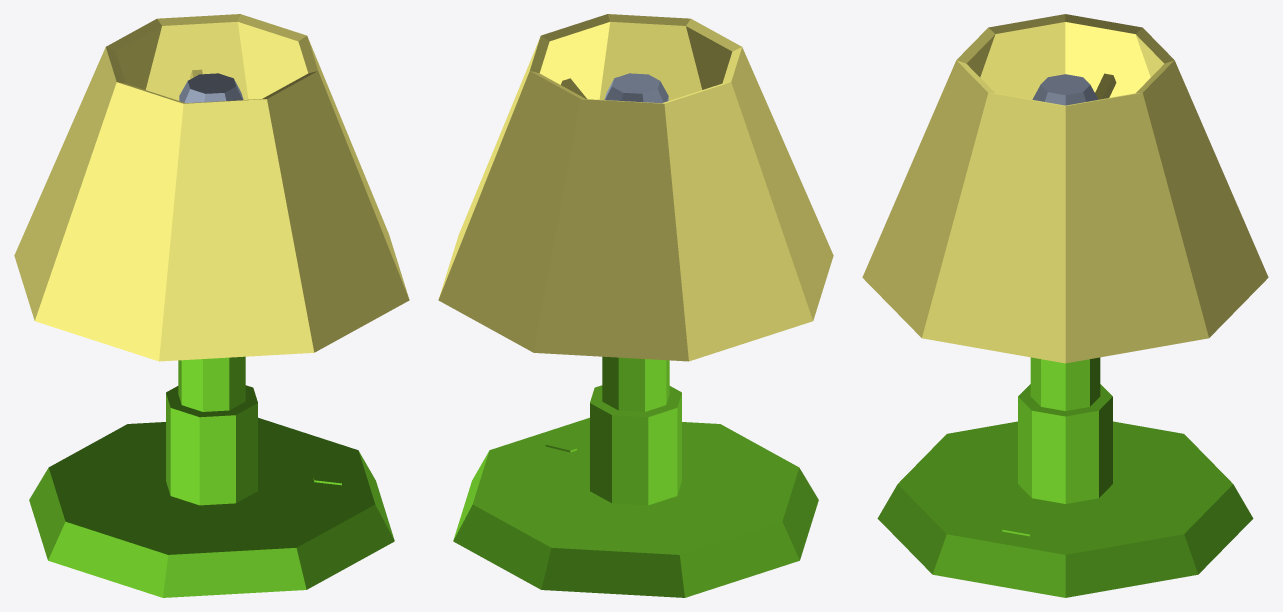
Rendered from Table Lamp 3.fbx.
The picture shows the model from 3 angles, left to right: view 1: azimuth 30°, elevation 25°; view 2: azimuth 150°, elevation 25°; view 3: azimuth 270°, elevation 25°; orthographic projection.
Parts seen in each view (by area): view 1: Node 0; view 2: Node 0; view 3: Node 0.
Boxes of the visible parts, bbox=[...] form: Node 0: bbox=[14, 14, 409, 597]; Node 0: bbox=[438, 14, 833, 597]; Node 0: bbox=[862, 14, 1268, 597].
Bounding box in the file's own units: 0.3728 × 0.4641 × 0.3728.
